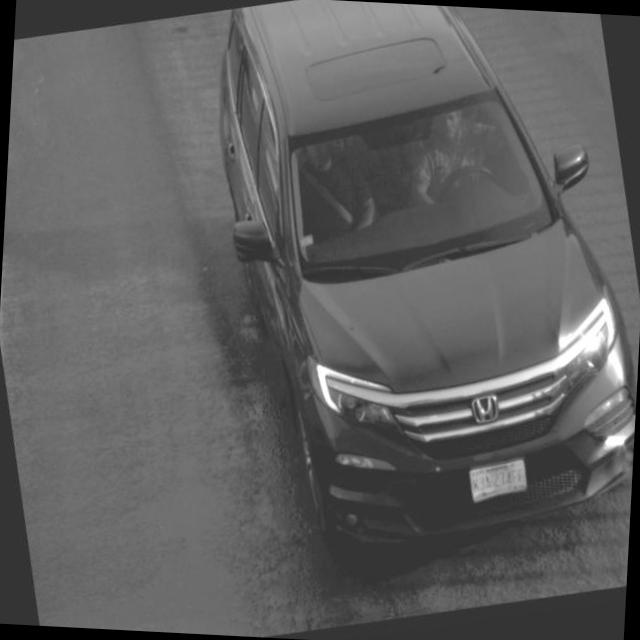person_with_seatbelt: (400, 97, 520, 256)
